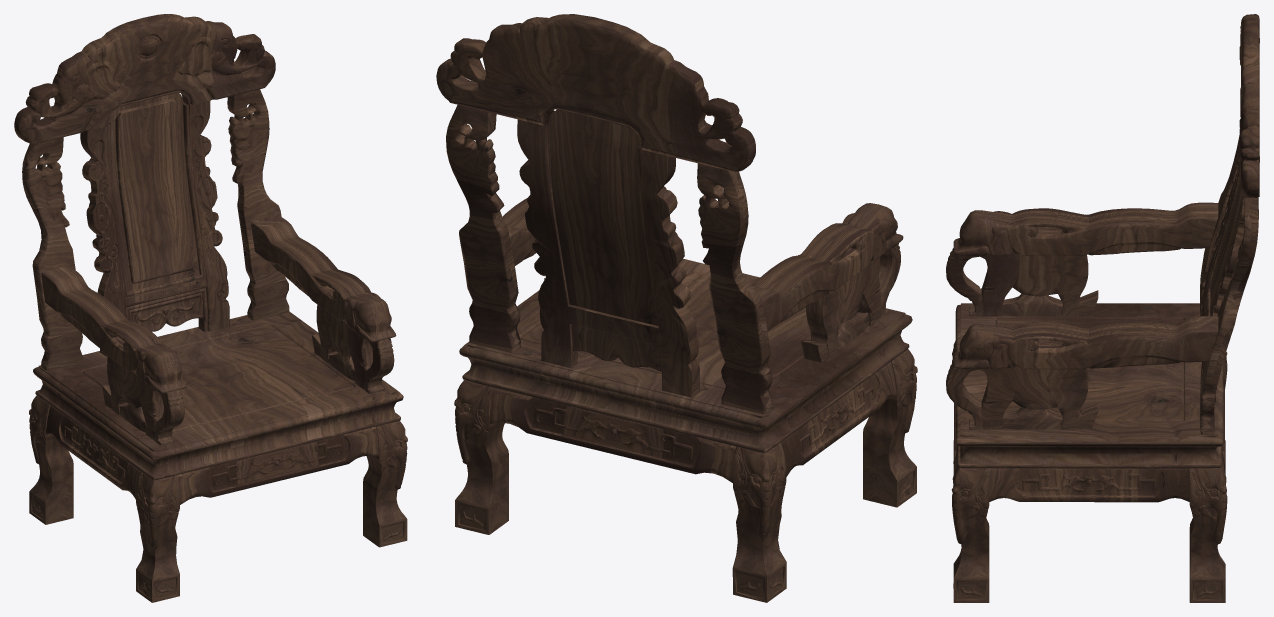
The model's file is chair.fbx.
3 views of the same model, side by side, from view 1: azimuth 30°, elevation 25°; view 2: azimuth 150°, elevation 25°; view 3: azimuth 270°, elevation 25° (orthographic). The views are drawn at different scales.
Visible parts, largest first — view 1: chair; view 2: chair; view 3: chair.
Boxes of the visible parts, x1,y1,x2,y2 form: chair: (14,14,407,602); chair: (436,14,917,602); chair: (946,14,1259,602).
Size of the model in its own units: 69.97 by 118 by 66.43.
1 material, 1 textured.
